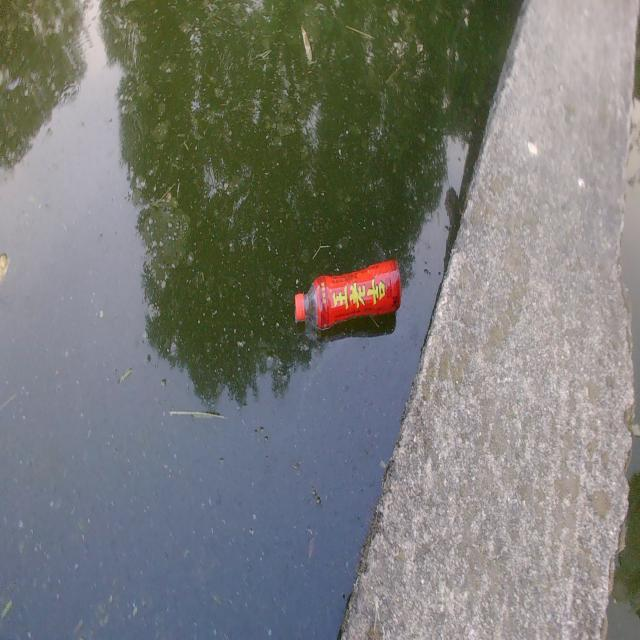bottle: (281, 248, 418, 347)
